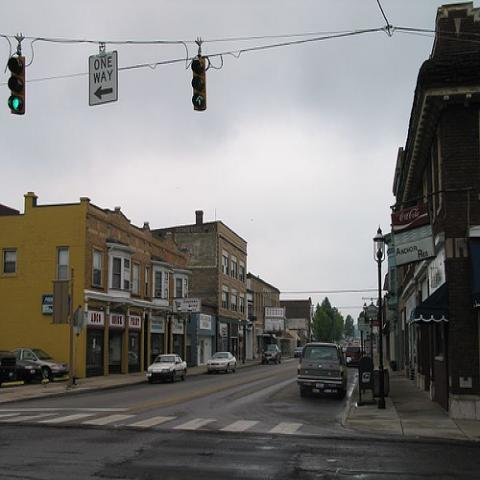car: (297, 343, 353, 398), (9, 345, 67, 383), (146, 353, 187, 383), (1, 351, 37, 384), (206, 350, 238, 375), (345, 346, 362, 368), (262, 344, 282, 362), (293, 347, 303, 358)
truck: (297, 341, 352, 400)
